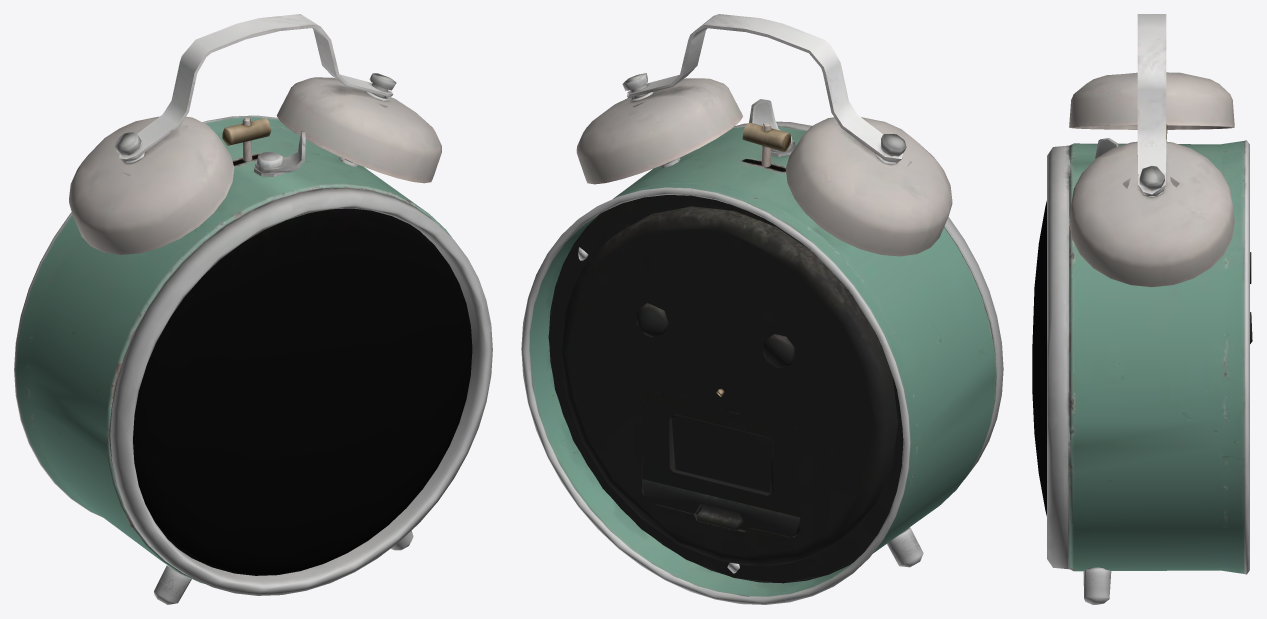
File: alarm_clock_01.glb
The picture shows the model from 3 angles, left to right: view 1: azimuth 30°, elevation 25°; view 2: azimuth 150°, elevation 25°; view 3: azimuth 270°, elevation 25°; orthographic projection. The views are drawn at different scales.
Visible parts, largest first — view 1: alarm_clock_01; view 2: alarm_clock_01; view 3: alarm_clock_01.
Part boxes in pixels (<box>): alarm_clock_01: <box>14,14,492,604</box>; alarm_clock_01: <box>521,14,1003,604</box>; alarm_clock_01: <box>1032,14,1252,604</box>.
Size of the model in its own units: 0.1316 by 0.1741 by 0.0666.
Materials: 2 (2 with a texture image).
